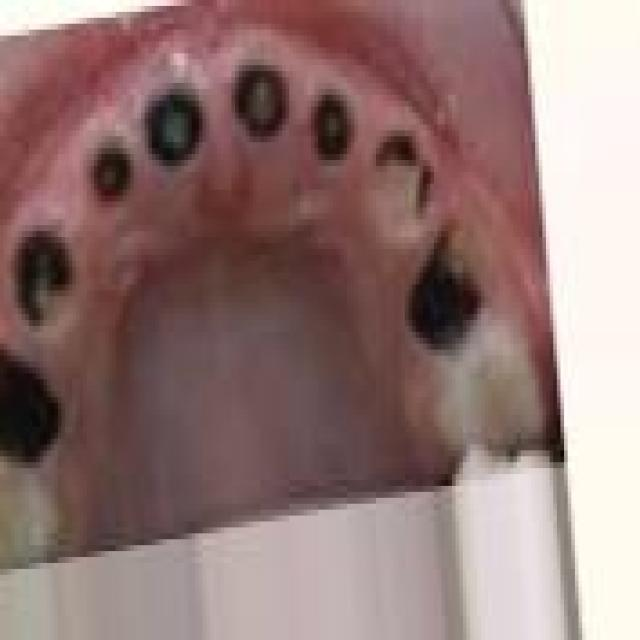caries: (398, 210, 497, 362), (357, 106, 448, 230), (0, 332, 72, 480), (7, 213, 85, 340), (138, 73, 211, 190), (224, 48, 295, 165), (300, 68, 360, 175), (80, 124, 140, 225)
